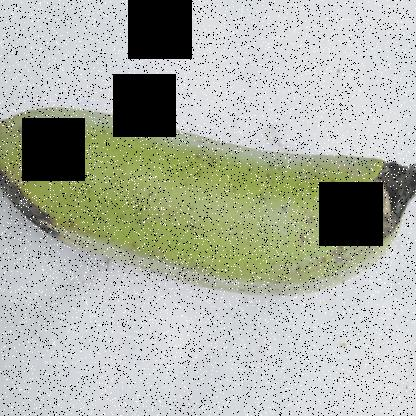unripe: (1, 78, 382, 298)
